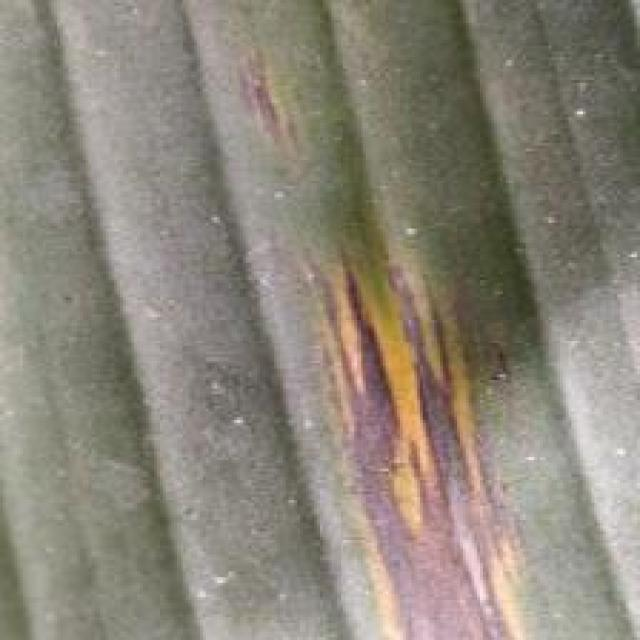Early_leaf_spot: (288, 223, 543, 640), (231, 28, 317, 166)
